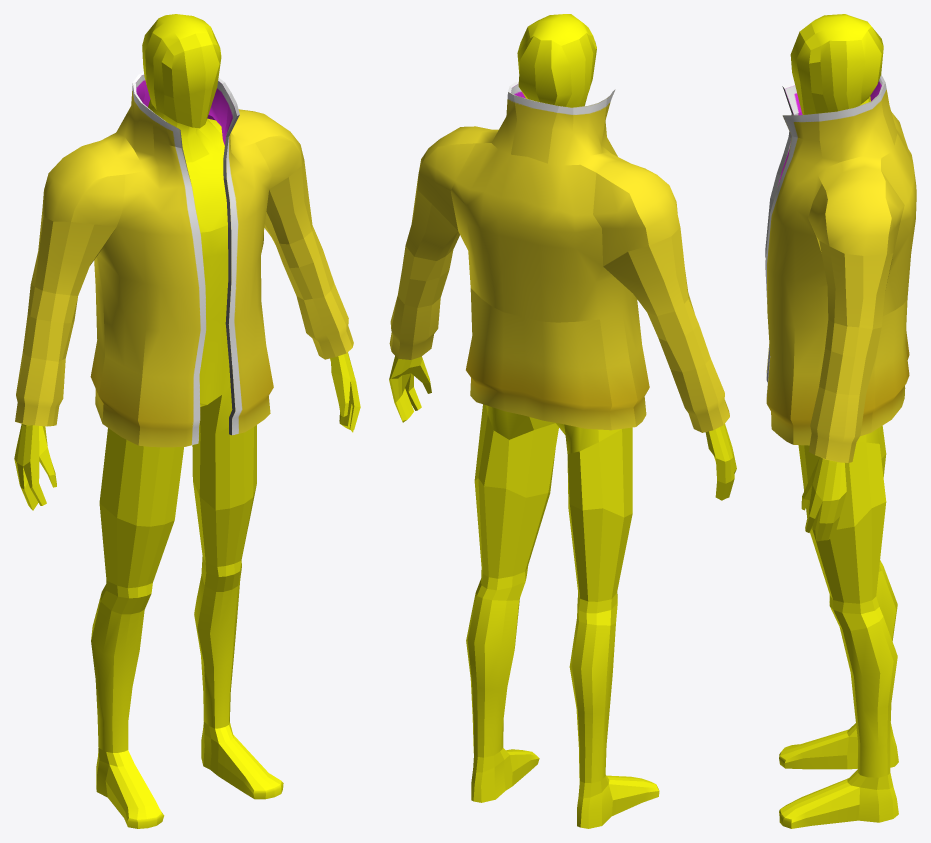
Rendered from human_yellow.fbx.
3 renders of one model, left to right at view 1: azimuth 30°, elevation 25°; view 2: azimuth 150°, elevation 25°; view 3: azimuth 270°, elevation 25°, orthographic.
Parts seen in each view (by area): view 1: pCube4, pCube1; view 2: pCube4, pCube1; view 3: pCube4, pCube1.
Boxes of the visible parts, bbox=[...] form: pCube4: bbox=[15, 72, 353, 447]; pCube1: bbox=[14, 14, 360, 828]; pCube4: bbox=[389, 81, 729, 432]; pCube1: bbox=[389, 14, 736, 828]; pCube4: bbox=[765, 74, 916, 462]; pCube1: bbox=[779, 14, 898, 828].
Size of the model in its own units: 8.14 by 17.87 by 3.17.
2 materials, 1 textured.
